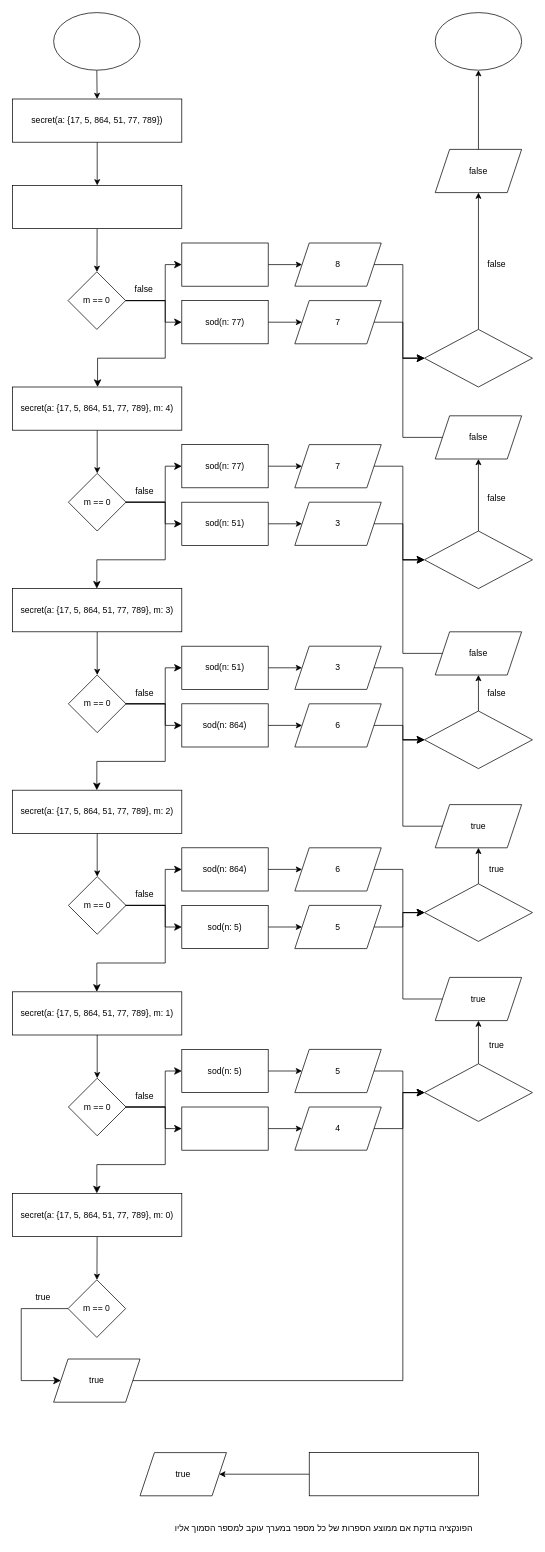
Some shapes in this 545 by 1552 pixel diagram are drawn without their labels. The shapes that lost their labels are listed below. From the top down, each one's centre as x and y in pixels, then its label:
point (96, 41): START
point (478, 41): END
point (97, 207): secret(a: {17, 5, 864, 51, 77, 789}, m: 5)
point (224, 264): sod(n: 789)
point (478, 358): false && (8 - 7 == 1)
point (478, 559): false && (7 - 3 == 1)
point (478, 739): true && (3 - 6 == 1)
point (478, 912): true && (6 - 5 == 1)
point (478, 1092): true && (5 - 4 == 1)
point (224, 1128): sod(n: 17)
point (393, 1474): secret(a: {51, 17, 5, 864, 77, 789})
